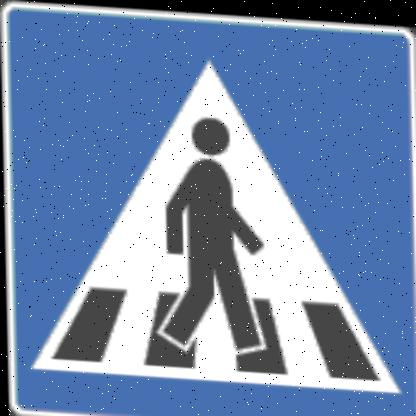Pedestrian Crossing: (23, 34, 404, 402)
